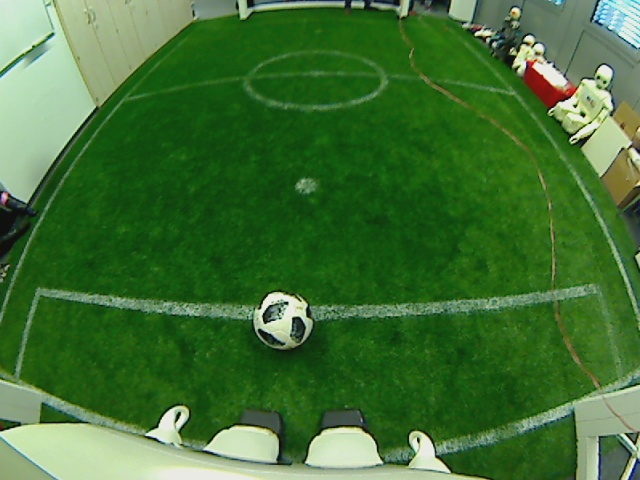ball: (252, 290, 315, 352)
